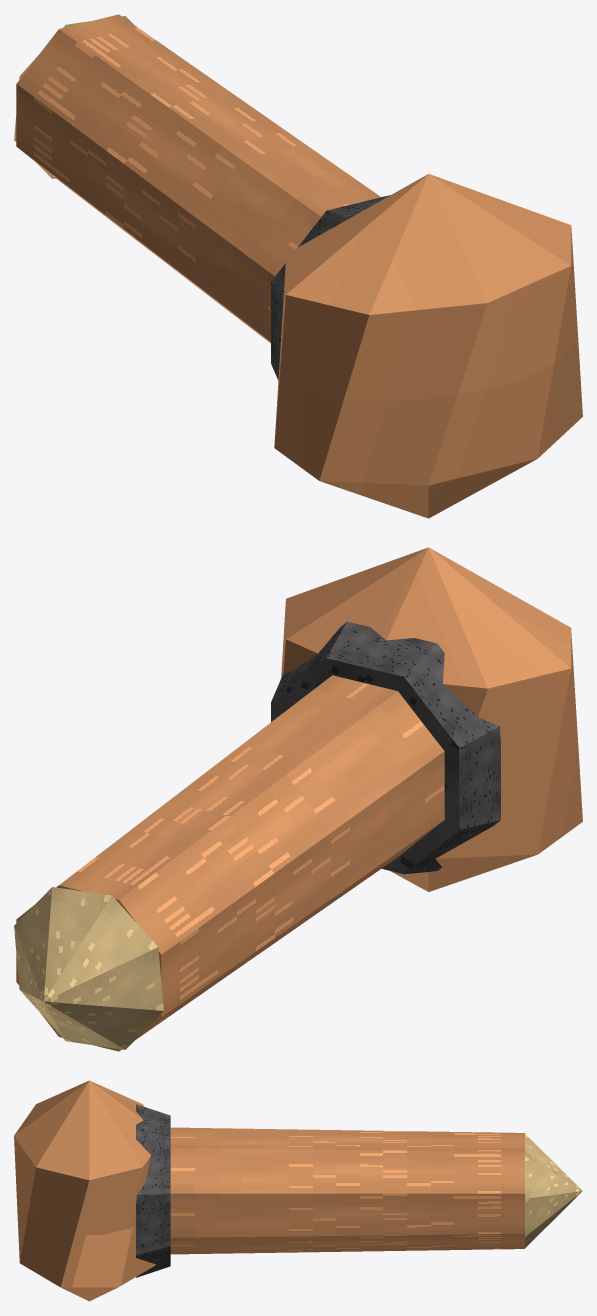
Rendered from proj_rivet.gltf.
3 views of the same model, one above another, from view 1: azimuth 30°, elevation 25°; view 2: azimuth 150°, elevation 25°; view 3: azimuth 270°, elevation 25° (orthographic). The views are drawn at different scales.
Visible parts, largest first — view 1: glow, body; view 2: glow, body; view 3: glow, body.
Boxes of the visible parts, x1=… form: glow: x1=14, y1=14, x2=582, y2=518; body: x1=271, y1=195, x2=390, y2=379; glow: x1=14, y1=547, x2=582, y2=1051; body: x1=271, y1=621, x2=500, y2=874; glow: x1=14, y1=1080, x2=582, y2=1301; body: x1=136, y1=1104, x2=170, y2=1277.
Bounding box in the file's own units: 0.0727 × 0.084 × 0.196.
Materials: 2 (2 with a texture image).
